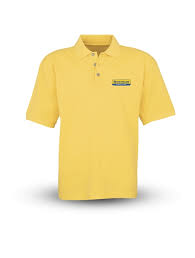C_polo shirt: (31, 32, 177, 205)
